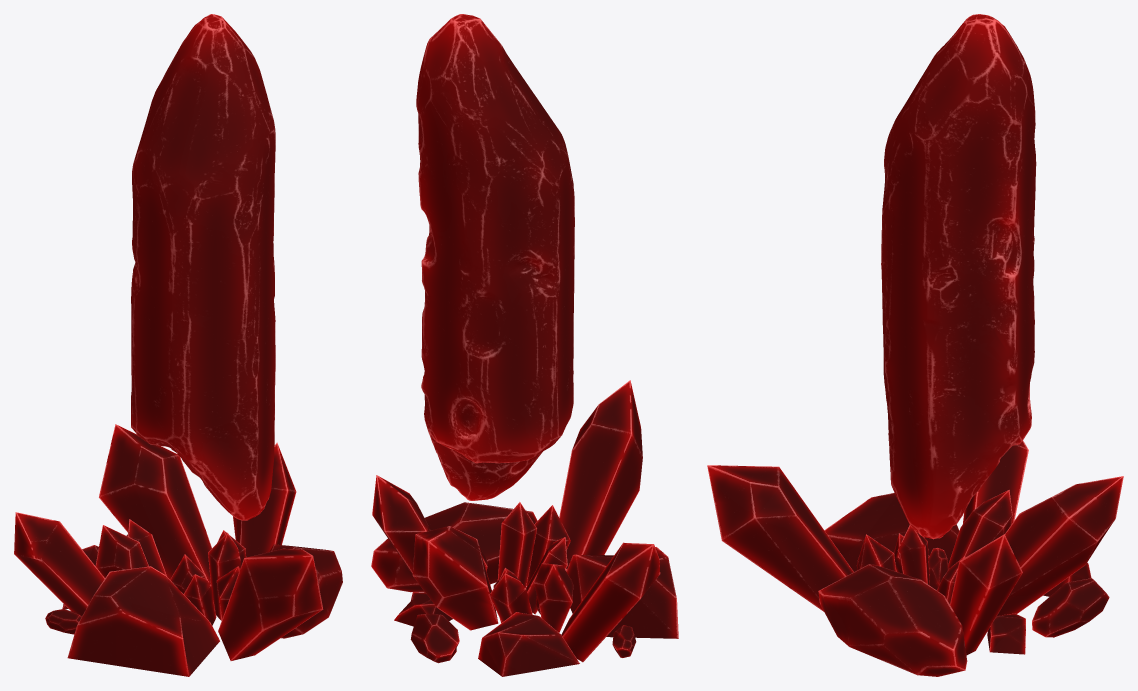
The model's file is Magic Crystal.gltf.
3 renders of one model, left to right at view 1: azimuth 30°, elevation 25°; view 2: azimuth 150°, elevation 25°; view 3: azimuth 270°, elevation 25°, orthographic. The views are drawn at different scales.
Visible parts, largest first — view 1: Object_5, Object_7, Object_10, Object_9, Object_2, Object_6, Object_8, Object_4; view 2: Object_5, Object_7, Object_9, Object_6, Object_10, Object_3, Object_2, Object_8, Object_4; view 3: Object_5, Object_7, Object_6, Object_10, Object_2, Object_9, Object_4.
Part boxes in pixels (x1,y1,x2,y2): Object_5: (131,14,275,520); Object_7: (95,424,323,660); Object_10: (67,566,219,676); Object_9: (14,512,240,620); Object_2: (233,442,296,557); Object_6: (45,535,342,638); Object_8: (127,519,216,625); Object_4: (216,566,239,619); Object_5: (416,14,574,500); Object_7: (412,380,642,632); Object_9: (497,502,660,662); Object_6: (371,502,636,663); Object_10: (394,547,678,638); Object_3: (478,612,579,676); Object_2: (372,475,430,592); Object_8: (490,537,567,622); Object_4: (526,505,570,586); Object_5: (881,14,1036,539); Object_7: (707,465,1123,616); Object_6: (818,548,1109,676); Object_10: (824,493,1025,654); Object_2: (950,534,1022,655); Object_9: (897,440,1028,585); Object_4: (856,534,896,571).
Size of the model in its own units: 21.64 by 42.35 by 25.17.
9 materials, 9 textured.
